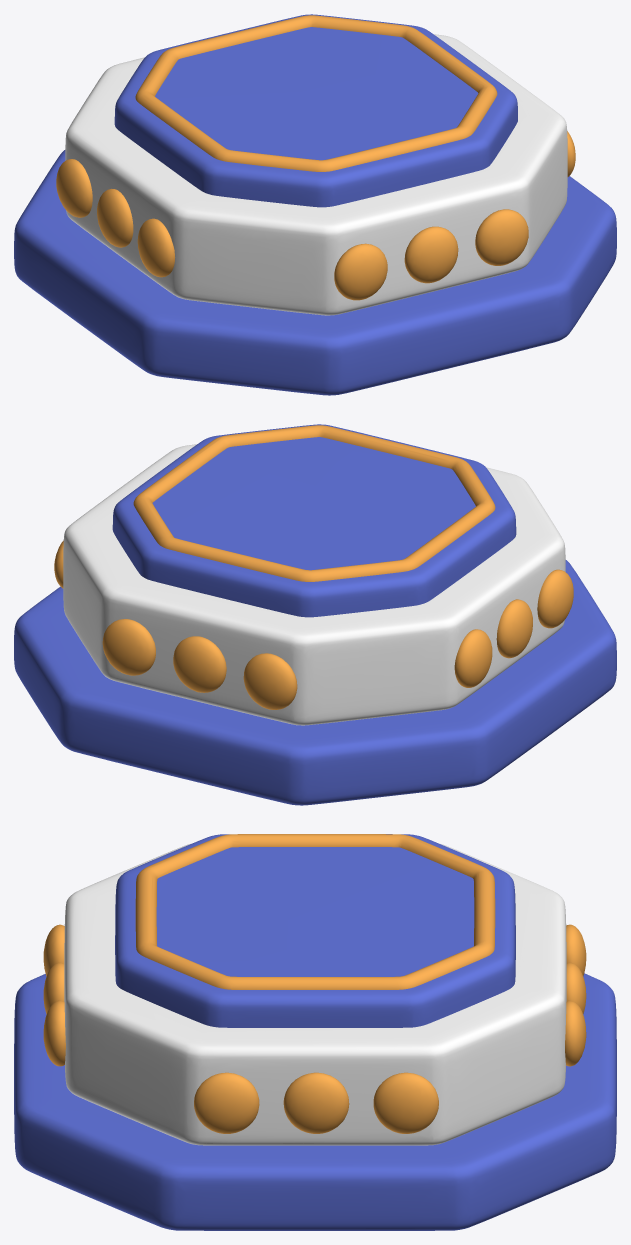
File: baseModelC.glb
3 renders of one model, top to bottom at view 1: azimuth 30°, elevation 25°; view 2: azimuth 150°, elevation 25°; view 3: azimuth 270°, elevation 25°, orthographic. The views are drawn at different scales.
Parts seen in each view (by area): view 1: Plane003, Plane, Plane001, Plane002, Sphere002, Sphere004; view 2: Plane003, Plane, Plane001, Plane002, Sphere006, Sphere004; view 3: Plane003, Plane, Plane001, Plane002, Sphere005, Sphere002, Sphere006.
Boxes of the visible parts, x1,y1,x2,y2 form: Plane003: (14, 150, 616, 395); Plane: (65, 34, 567, 315); Plane001: (114, 14, 517, 207); Plane002: (135, 15, 497, 171); Sphere002: (334, 209, 528, 300); Sphere004: (56, 159, 175, 277); Plane003: (14, 560, 616, 805); Plane: (63, 444, 565, 725); Plane001: (112, 424, 516, 617); Plane002: (133, 425, 495, 581); Sphere006: (102, 619, 297, 709); Sphere004: (454, 569, 573, 687); Plane003: (14, 973, 616, 1230); Plane: (64, 843, 566, 1145); Plane001: (115, 834, 515, 1027); Plane002: (135, 834, 495, 989); Sphere005: (194, 1072, 438, 1133); Sphere002: (43, 924, 65, 1066); Sphere006: (565, 924, 586, 1066).
Bounding box in the file's own units: 1 × 0.3716 × 0.9999.
